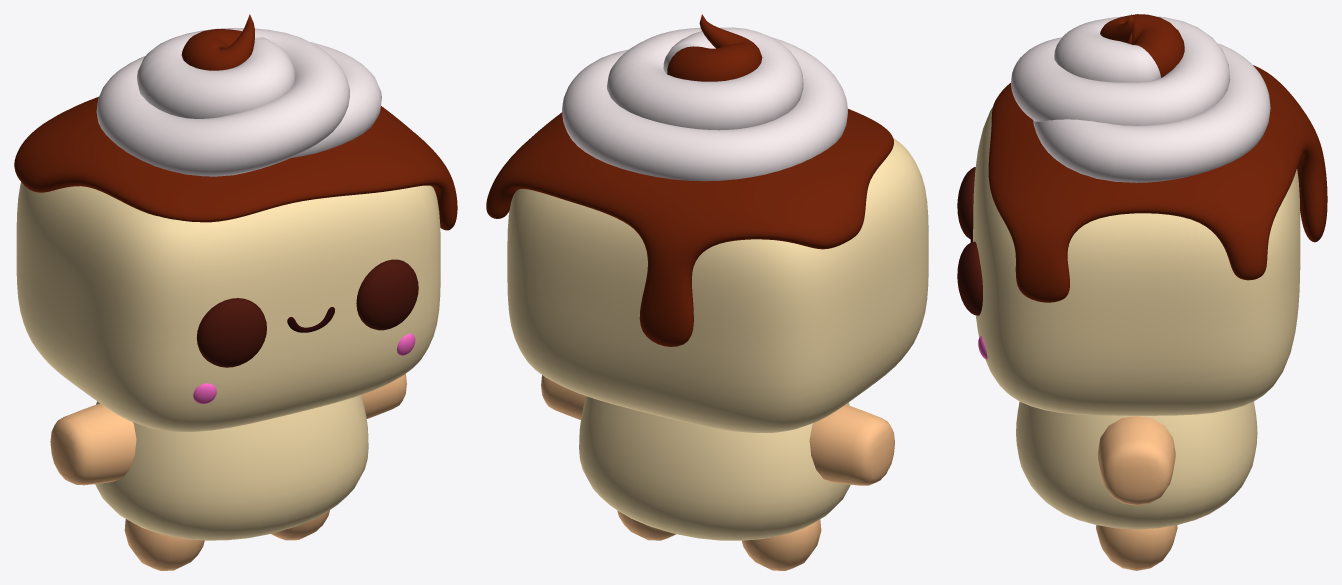
The model's file is S_Morey.fbx.
The picture shows the model from 3 angles, left to right: view 1: azimuth 30°, elevation 25°; view 2: azimuth 150°, elevation 25°; view 3: azimuth 270°, elevation 25°; orthographic projection.
Parts seen in each view (by area): view 1: Eye R; view 2: Eye R; view 3: Eye R.
Boxes of the visible parts, box(x1,y1,x2,y2) form: Eye R: box(14, 14, 457, 570); Eye R: box(486, 14, 928, 570); Eye R: box(957, 14, 1327, 570).
Bounding box in the file's own units: 313 × 457 × 288.
